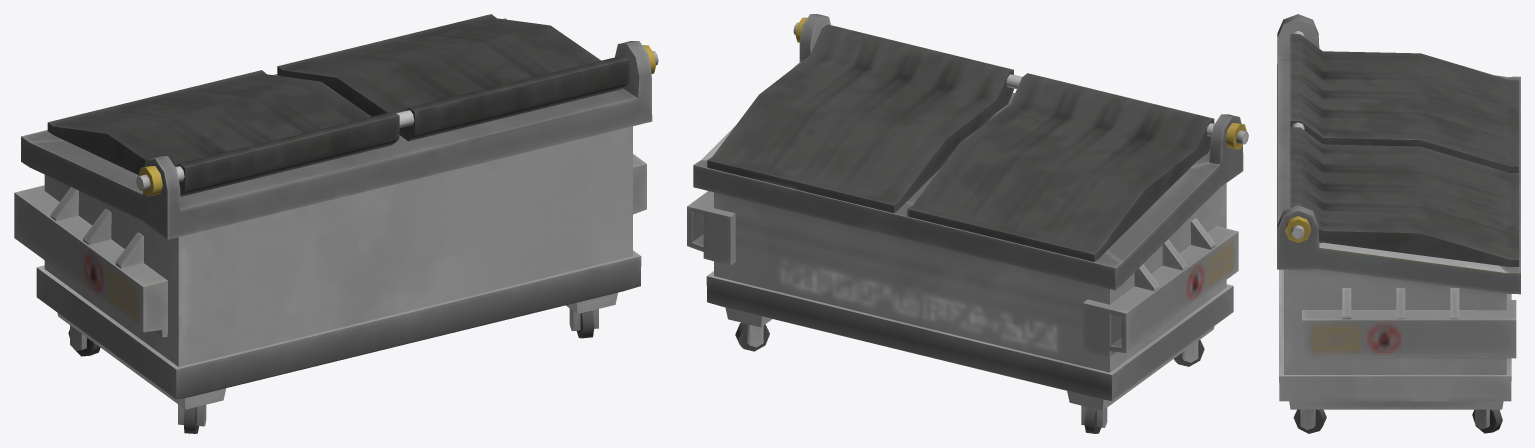
The model's file is Prfb_Dumpster.fbx.
The picture shows the model from 3 angles, left to right: view 1: azimuth 30°, elevation 25°; view 2: azimuth 150°, elevation 25°; view 3: azimuth 270°, elevation 25°; orthographic projection. The views are drawn at different scales.
Visible parts, largest first — view 1: Mat_Dumpster_01_01; view 2: Mat_Dumpster_01_01; view 3: Mat_Dumpster_01_01.
Part boxes in pixels (left/top/right/bottom): Mat_Dumpster_01_01: left=14, top=14, right=658, bottom=433; Mat_Dumpster_01_01: left=687, top=14, right=1248, bottom=433; Mat_Dumpster_01_01: left=1277, top=14, right=1520, bottom=433.
Size of the model in its own units: 3.04 by 1.64 by 1.5.
1 material, 1 textured.
